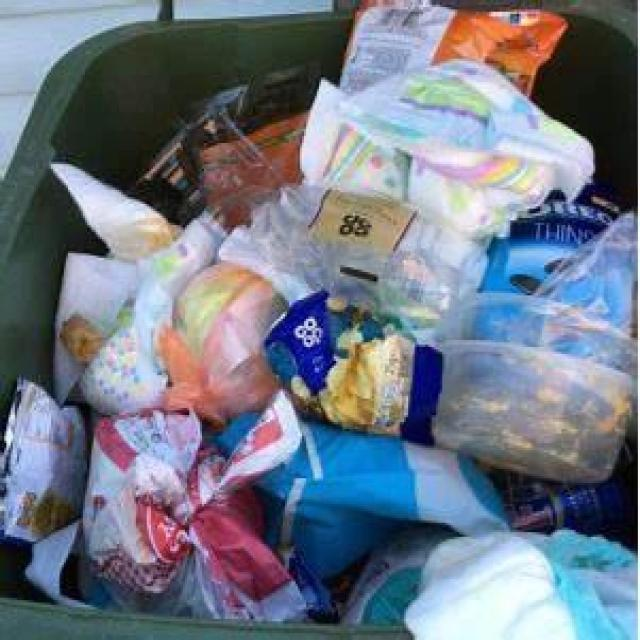Garbage: (0, 1, 640, 639)
Plastic: (256, 422, 508, 615)
Plastic_Bag: (82, 391, 305, 620), (474, 214, 638, 376), (405, 531, 635, 639)
Plastic_Container: (432, 340, 633, 483)
Plastic_wraper: (219, 186, 485, 344), (131, 63, 320, 229), (340, 0, 567, 94), (265, 291, 415, 433), (158, 262, 288, 422), (490, 438, 636, 548), (480, 185, 621, 294), (5, 379, 87, 542)
